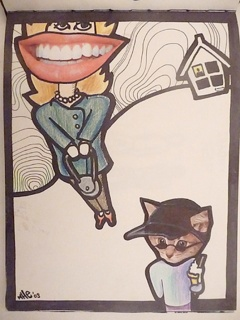Cat: (142, 194, 213, 265)
